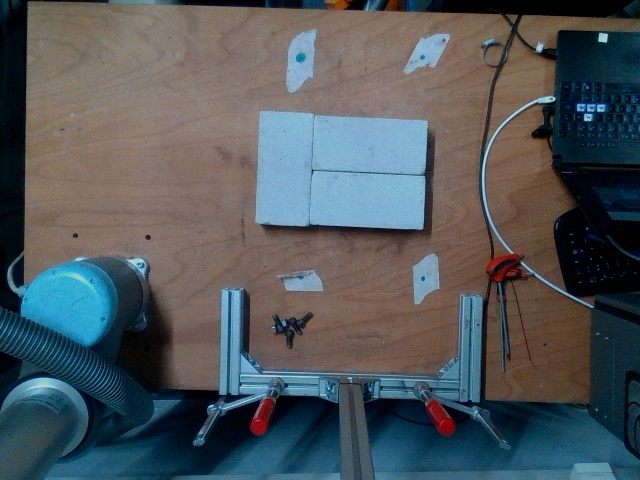brick: (311, 172, 425, 229), (313, 116, 427, 172), (257, 111, 312, 224)
